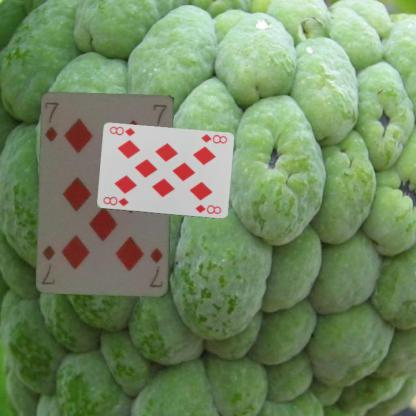7d: (147, 245, 165, 289), (42, 100, 60, 144)
8d: (100, 194, 129, 208), (199, 132, 228, 145)
